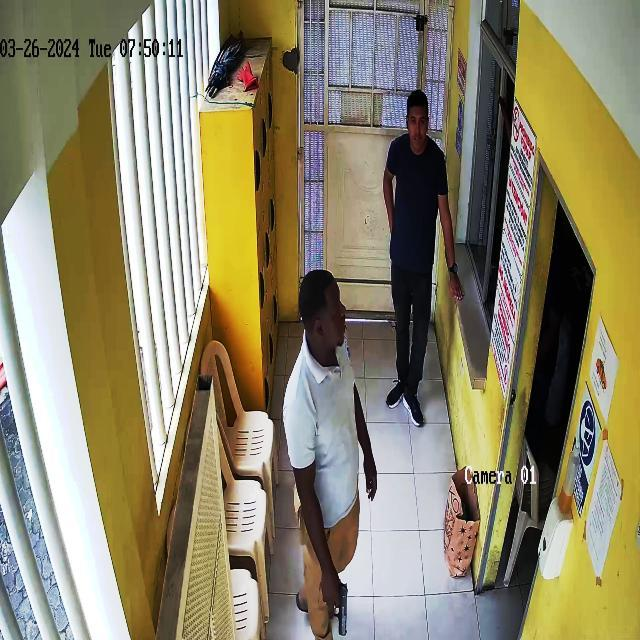Gun: (316, 573, 366, 635)
